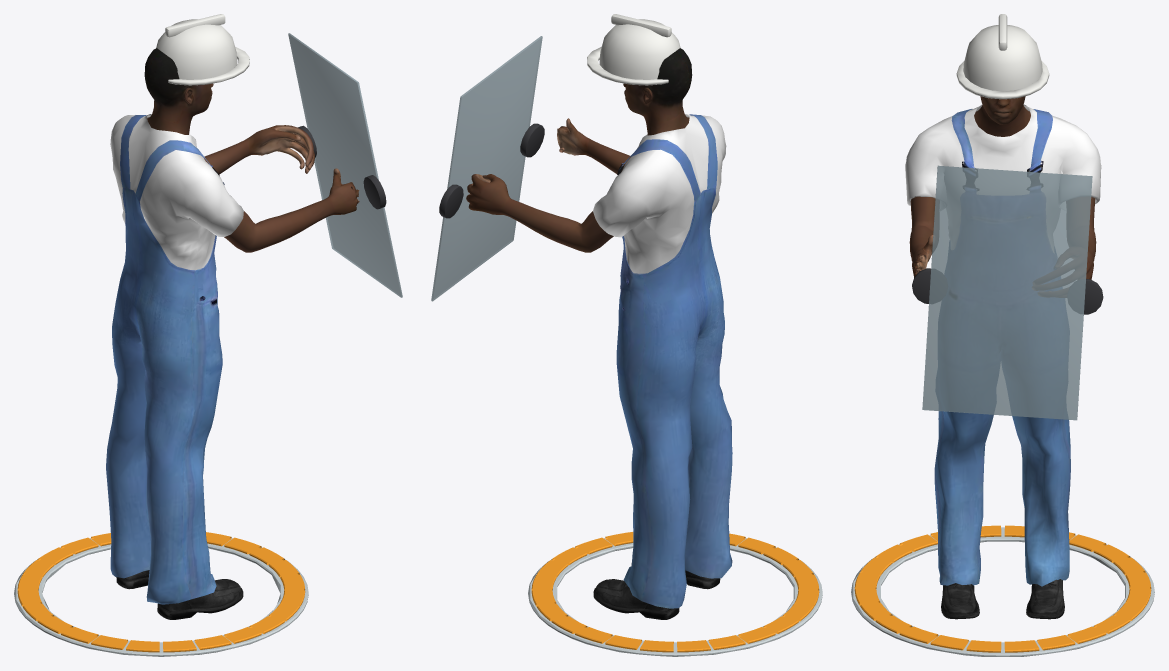
The model's file is MDO-INS-005_lod1.glb.
The picture shows the model from 3 angles, left to right: view 1: azimuth 30°, elevation 25°; view 2: azimuth 150°, elevation 25°; view 3: azimuth 270°, elevation 25°; orthographic projection. The views are drawn at different scales.
Parts seen in each view (by area): view 1: MDO-INS-005_pessoa_male_worksuit01, MDO-INS-005_ferD_vidro, MDO-INS-005_pessoa, MDO-INS-005_capacete, MDO-INS-005_anel_fundo, MDO-INS-005_pessoa_shoes04, MDO-INS-005_capacete_aba, MDO-INS-005_capacete_friso; view 2: MDO-INS-005_pessoa_male_worksuit01, MDO-INS-005_ferD_vidro, MDO-INS-005_pessoa, MDO-INS-005_capacete, MDO-INS-005_anel_fundo, MDO-INS-005_pessoa_shoes04, MDO-INS-005_capacete_aba, MDO-INS-005_ferD_ventosa2, MDO-INS-005_ferD_ventosa1; view 3: MDO-INS-005_pessoa_male_worksuit01, MDO-INS-005_ferD_vidro, MDO-INS-005_pessoa, MDO-INS-005_capacete, MDO-INS-005_anel_fundo, MDO-INS-005_pessoa_shoes04, MDO-INS-005_capacete_aba, MDO-INS-005_ferD_ventosa1, MDO-INS-005_ferD_ventosa2.
Boxes of the visible parts, x1,y1,x2,y2 form: MDO-INS-005_pessoa_male_worksuit01: [106, 114, 243, 604]; MDO-INS-005_ferD_vidro: [288, 33, 402, 297]; MDO-INS-005_pessoa: [144, 48, 359, 252]; MDO-INS-005_capacete: [156, 19, 237, 79]; MDO-INS-005_anel_fundo: [14, 538, 308, 656]; MDO-INS-005_pessoa_shoes04: [116, 570, 243, 619]; MDO-INS-005_capacete_aba: [168, 46, 249, 85]; MDO-INS-005_capacete_friso: [165, 14, 225, 37]; MDO-INS-005_pessoa_male_worksuit01: [593, 114, 732, 608]; MDO-INS-005_ferD_vidro: [431, 36, 542, 301]; MDO-INS-005_pessoa: [466, 48, 692, 252]; MDO-INS-005_capacete: [599, 19, 680, 79]; MDO-INS-005_anel_fundo: [528, 538, 822, 656]; MDO-INS-005_pessoa_shoes04: [593, 563, 720, 619]; MDO-INS-005_capacete_aba: [587, 47, 668, 85]; MDO-INS-005_ferD_ventosa2: [439, 184, 463, 218]; MDO-INS-005_ferD_ventosa1: [520, 123, 544, 157]; MDO-INS-005_pessoa_male_worksuit01: [905, 104, 1101, 586]; MDO-INS-005_ferD_vidro: [922, 165, 1092, 420]; MDO-INS-005_pessoa: [909, 96, 1096, 297]; MDO-INS-005_capacete: [963, 25, 1042, 91]; MDO-INS-005_anel_fundo: [851, 527, 1154, 656]; MDO-INS-005_pessoa_shoes04: [941, 579, 1064, 619]; MDO-INS-005_capacete_aba: [956, 61, 1049, 99]; MDO-INS-005_ferD_ventosa1: [912, 268, 947, 303]; MDO-INS-005_ferD_ventosa2: [1067, 279, 1103, 314].
Bounding box in the file's own units: 1.11 × 1.79 × 0.84.
Materials: 10 (5 with a texture image).
